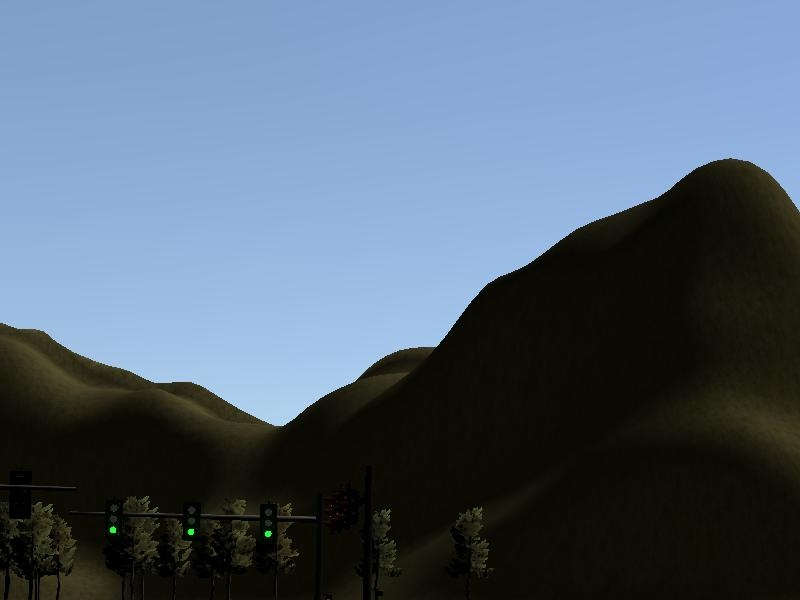green: (259, 506, 276, 548), (183, 500, 200, 542), (105, 498, 122, 540)
